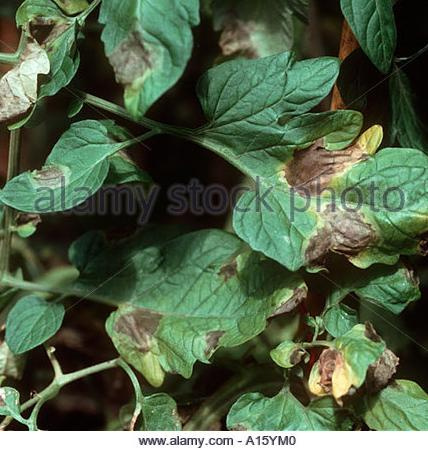Tomato leaf late blight: (191, 53, 428, 279), (65, 224, 311, 379), (0, 117, 123, 228), (271, 304, 395, 408), (0, 0, 93, 124)
